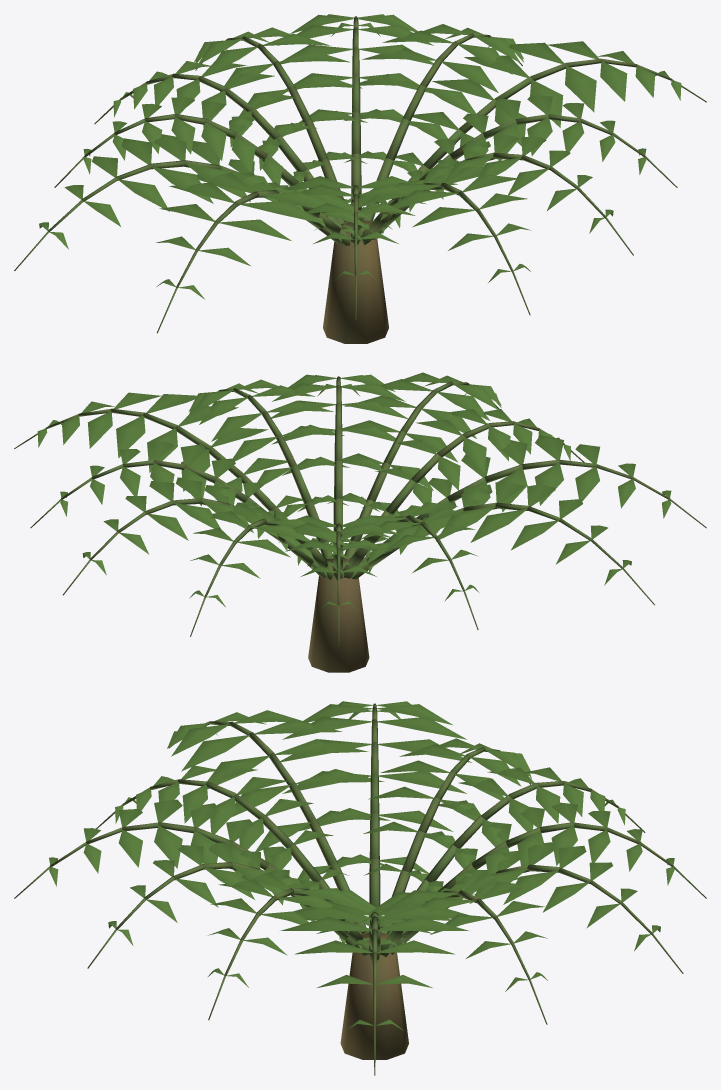
File: SM_Fern.fbx
3 views of the same model, one above another, from view 1: azimuth 30°, elevation 25°; view 2: azimuth 150°, elevation 25°; view 3: azimuth 270°, elevation 25° (orthographic). The views are drawn at different scales.
Visible parts, largest first — view 1: SM_Fern; view 2: SM_Fern; view 3: SM_Fern.
Boxes of the visible parts, x1,y1,x2,y2 form: SM_Fern: (14,14,706,343); SM_Fern: (14,372,706,672); SM_Fern: (14,701,706,1075).
Bounding box in the file's own units: 404 × 338 × 122.
